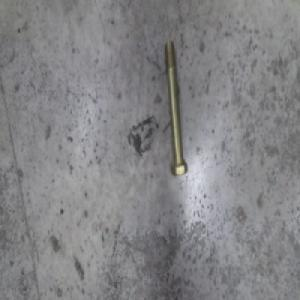Bolt: (162, 38, 188, 171)
